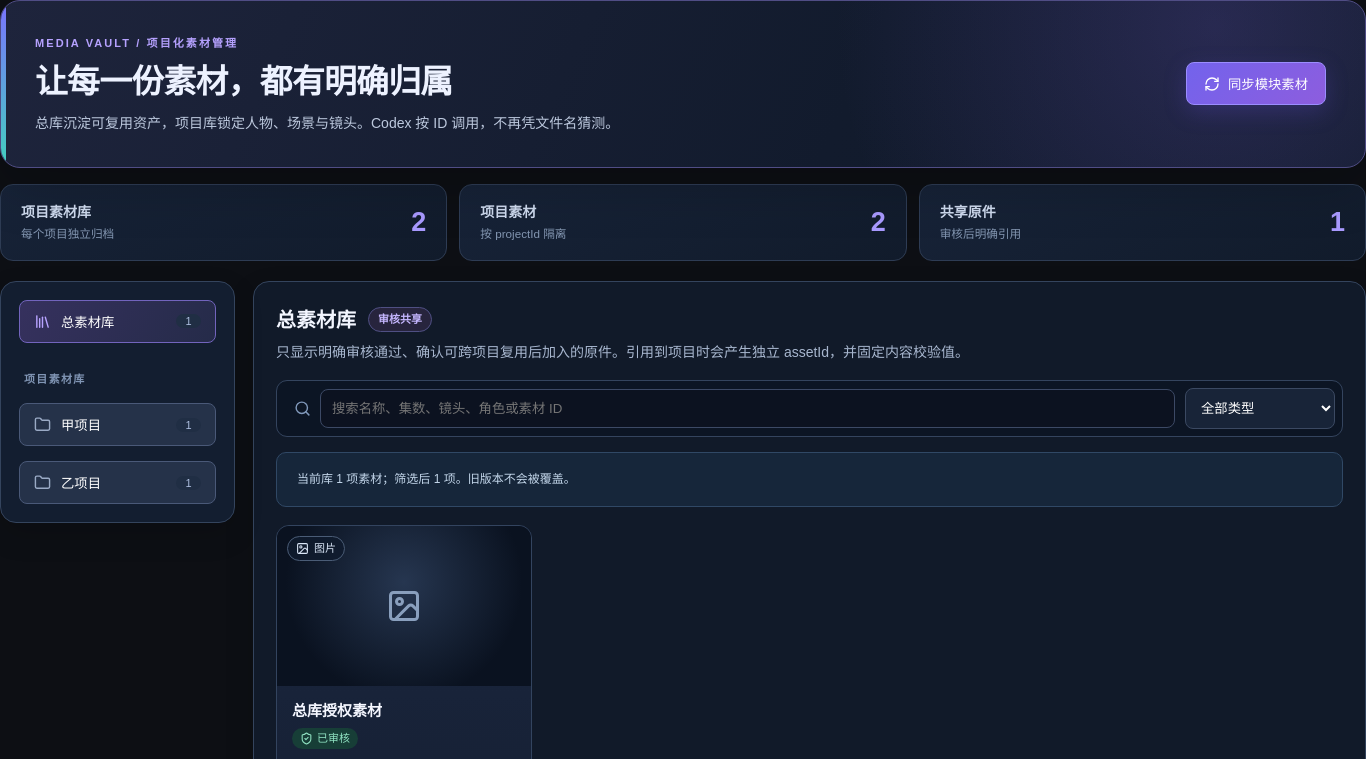
分层素材中心 › 总库与各项目素材分栏展示，不把其他项目素材混进当前列表
Expected: the heading "总库授权素材" is shown, [292,702,382,719]
Expected: the text "甲项目角色照" is not shown
Click the button "甲项目 1". click: (118, 425)
box: [19,403,216,446]
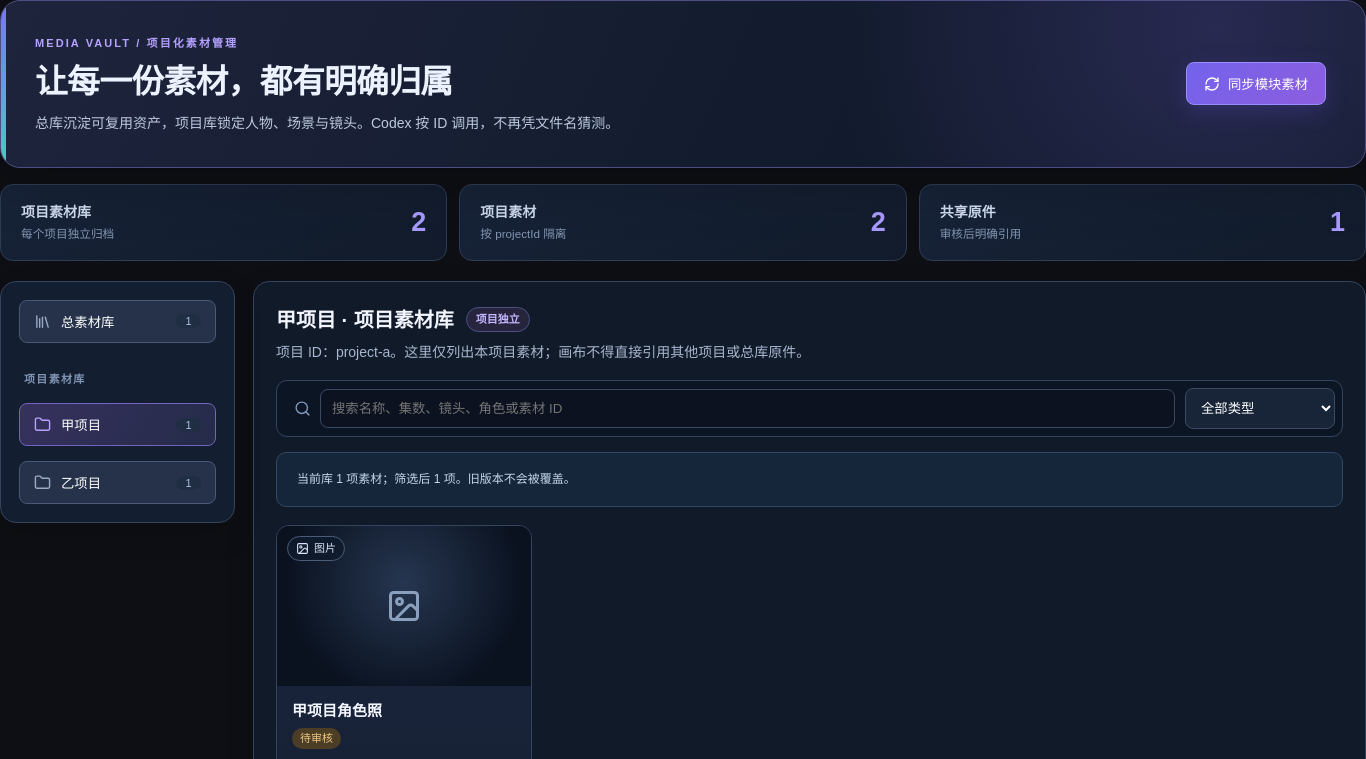
Expected: the heading "甲项目角色照" is shown, [292,702,382,719]
Expected: the heading "总库授权素材" is gone
